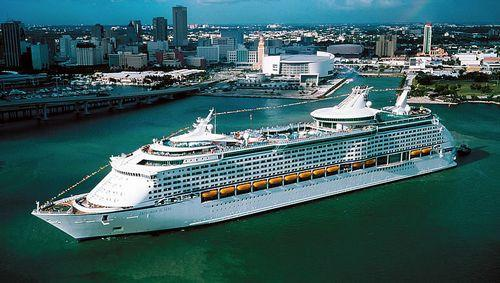youlun: (29, 68, 457, 240)
